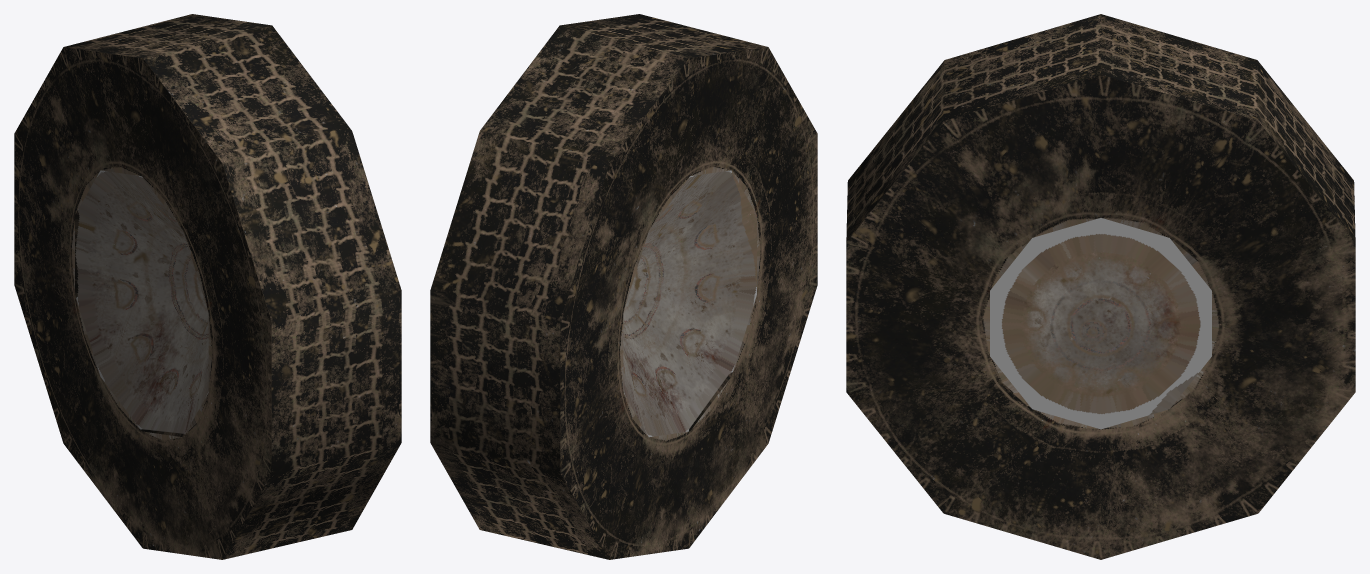
Rendered from Lorry_tyre_01a_COL_snaps005.fbx.
3 renders of one model, left to right at view 1: azimuth 30°, elevation 25°; view 2: azimuth 150°, elevation 25°; view 3: azimuth 270°, elevation 25°, orthographic.
Parts seen in each view (by area): view 1: Lorry_tyre_01a_COL_snaps005; view 2: Lorry_tyre_01a_COL_snaps005; view 3: Lorry_tyre_01a_COL_snaps005.
Boxes of the visible parts, box(x1,y1,x2,y2) form: Lorry_tyre_01a_COL_snaps005: box(14, 14, 401, 559); Lorry_tyre_01a_COL_snaps005: box(430, 14, 817, 559); Lorry_tyre_01a_COL_snaps005: box(846, 14, 1355, 559).
Bounding box in the file's own units: 36.24 × 114 × 109.
